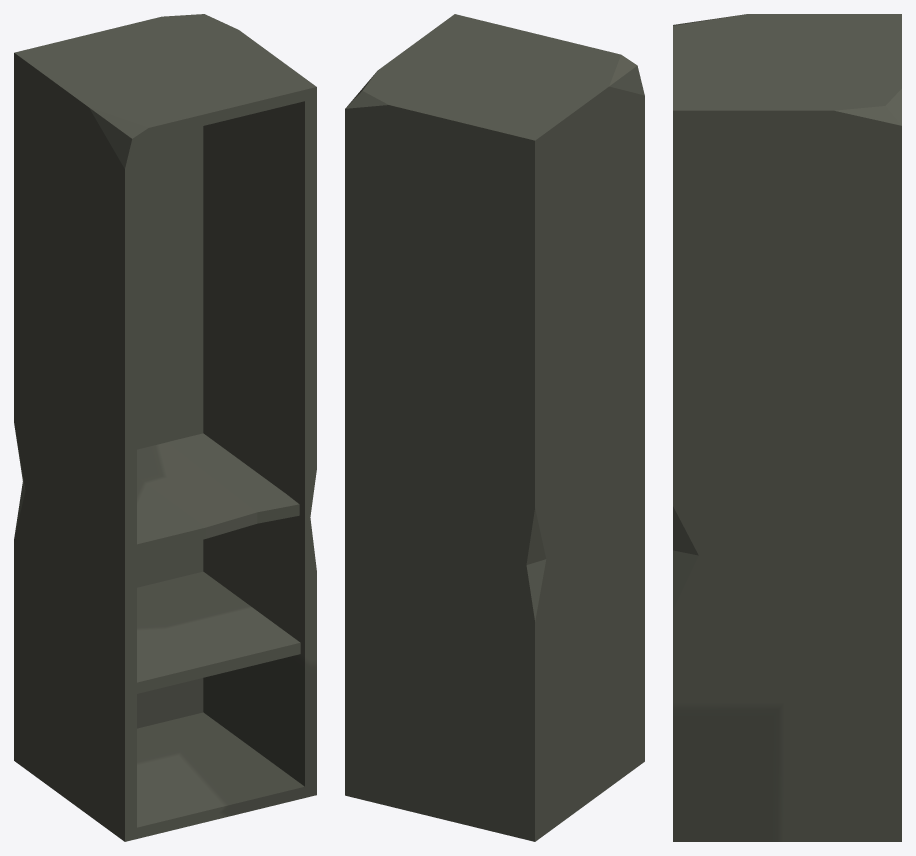
The model's file is SM_Prop_Locker_01.fbx.
The picture shows the model from 3 angles, left to right: view 1: azimuth 30°, elevation 25°; view 2: azimuth 150°, elevation 25°; view 3: azimuth 270°, elevation 25°; orthographic projection. The views are drawn at different scales.
Parts seen in each view (by area): view 1: SM_Prop_Locker_01; view 2: SM_Prop_Locker_01; view 3: SM_Prop_Locker_01.
Boxes of the visible parts, x1,y1,x2,y2 form: SM_Prop_Locker_01: (14,14,316,841); SM_Prop_Locker_01: (345,14,644,841); SM_Prop_Locker_01: (673,14,901,841).
Size of the model in its own units: 65.73 by 232 by 65.73.
